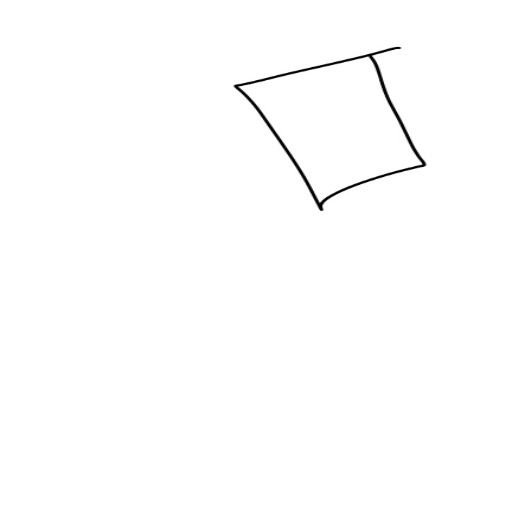square: (215, 33, 432, 232)
